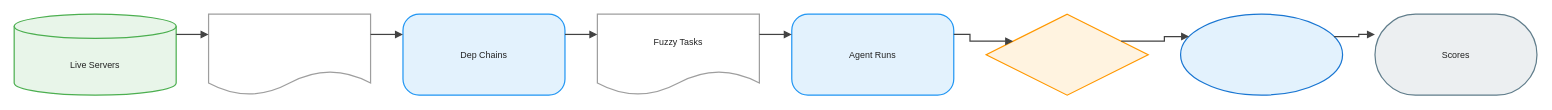
Image size: 1552x110. Some labels were removed from this diagram. Here are the shapes that lost their labels. From the top down, the centre of each, then its label:
[289,54]: Tool Schemas
[1066,54]: Rule Checks
[1261,54]: LLM Judge
